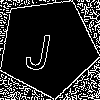J: (23, 22, 56, 72)
